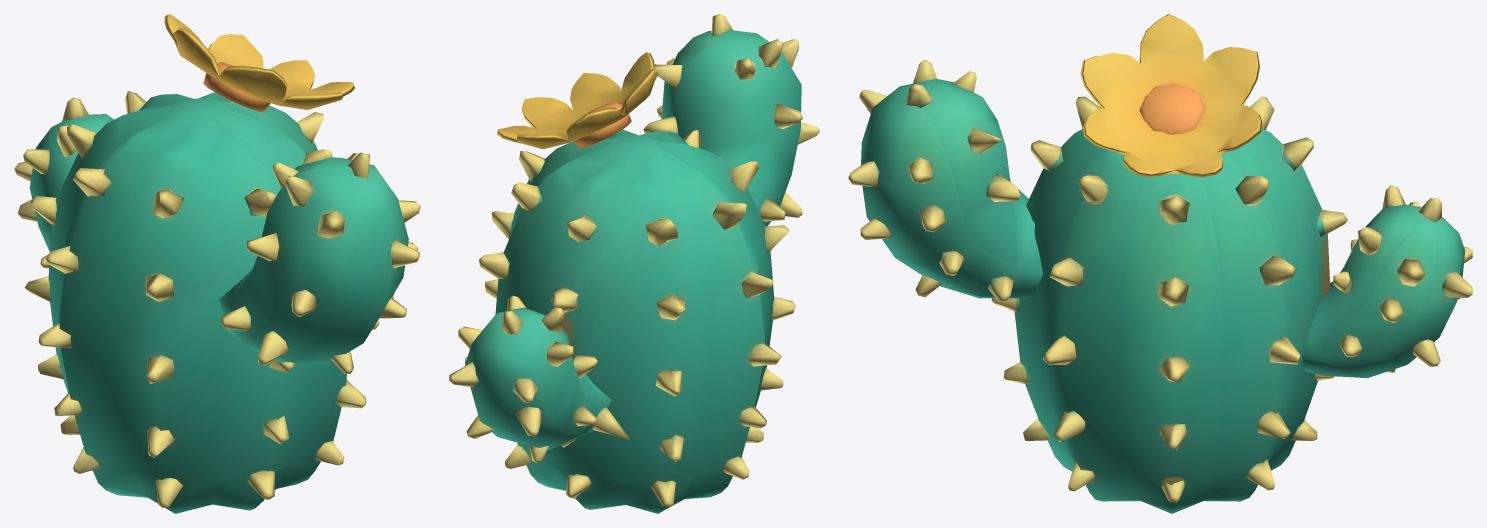
File: cactus_forge3D.glb
3 renders of one model, left to right at view 1: azimuth 30°, elevation 25°; view 2: azimuth 150°, elevation 25°; view 3: azimuth 270°, elevation 25°, orthographic. The views are drawn at different scales.
Parts seen in each view (by area): view 1: tripo_node_3f6ac5c3-ed85-43f9-952d-f1e77880a4d8; view 2: tripo_node_3f6ac5c3-ed85-43f9-952d-f1e77880a4d8; view 3: tripo_node_3f6ac5c3-ed85-43f9-952d-f1e77880a4d8.
Part boxes in pixels (<box>): tripo_node_3f6ac5c3-ed85-43f9-952d-f1e77880a4d8: <box>14,14,420,513</box>; tripo_node_3f6ac5c3-ed85-43f9-952d-f1e77880a4d8: <box>449,14,819,513</box>; tripo_node_3f6ac5c3-ed85-43f9-952d-f1e77880a4d8: <box>848,14,1472,513</box>.
Bounding box in the file's own units: 0.5957 × 0.7988 × 0.998.
Materials: 1 (1 with a texture image).
